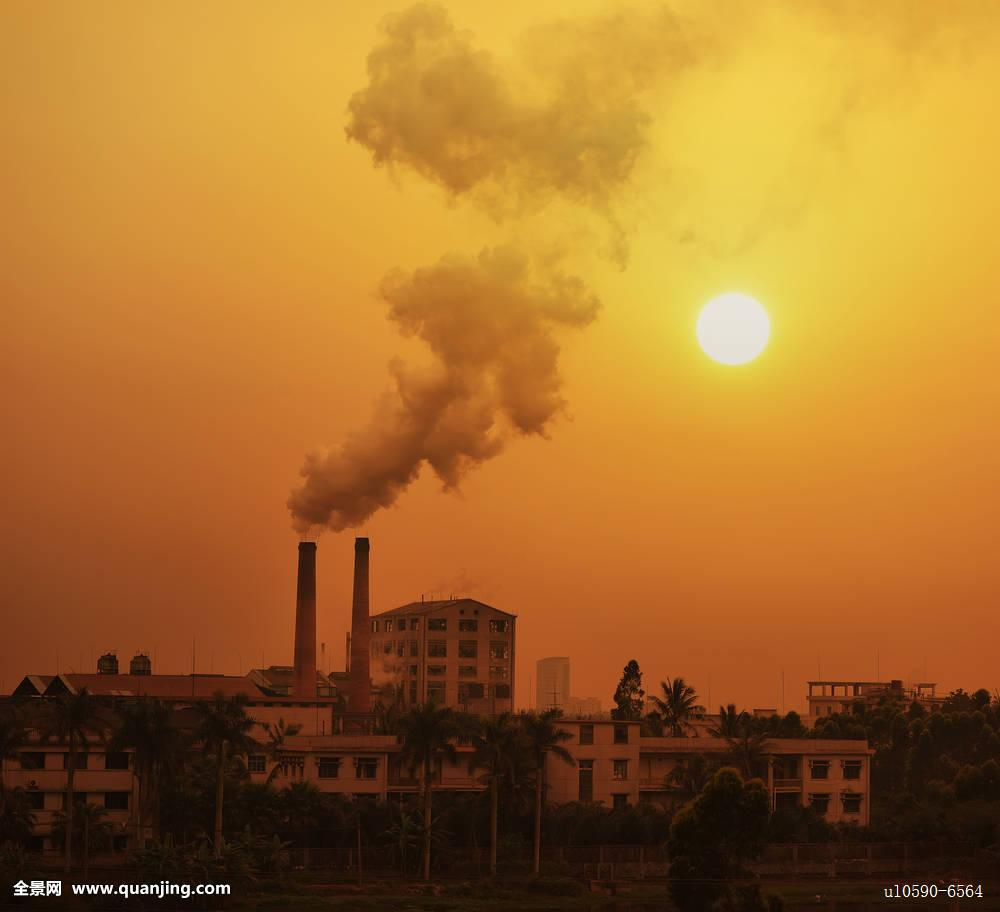dust: (278, 199, 606, 561)
